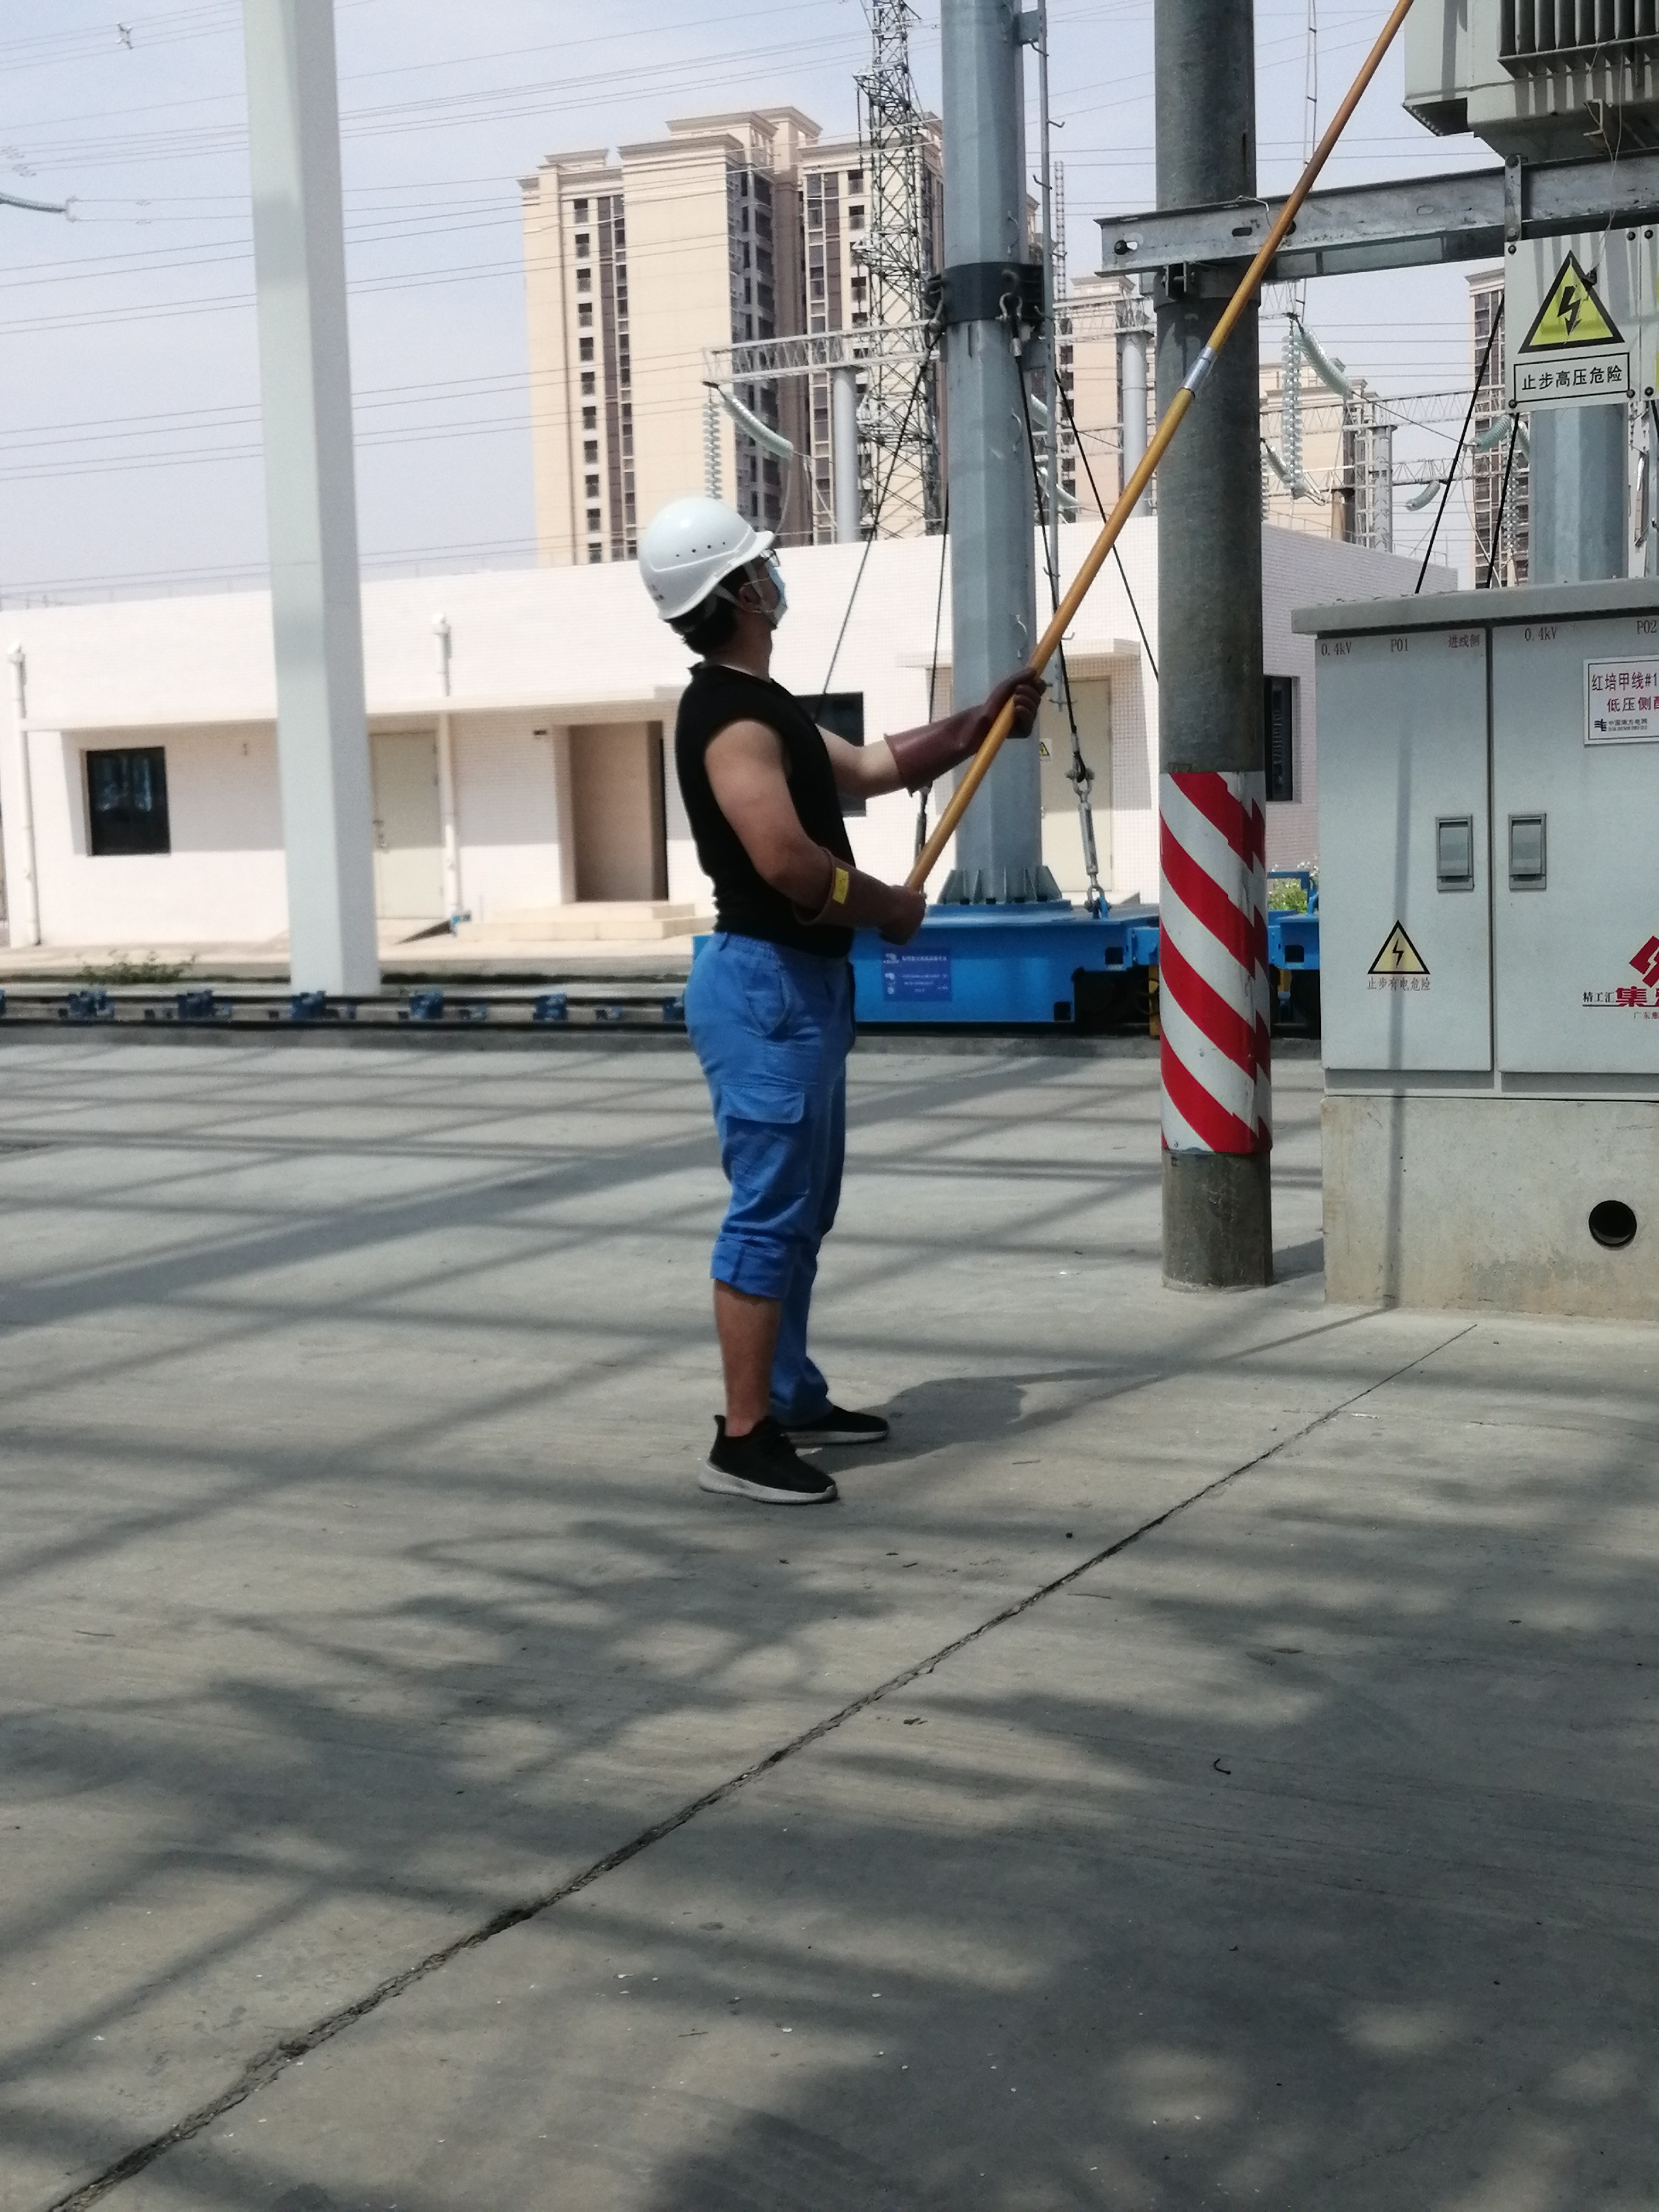downsuit: (683, 941, 868, 1435)
upcloth: (671, 671, 856, 935)
wrongbottom: (702, 1238, 793, 1440)
